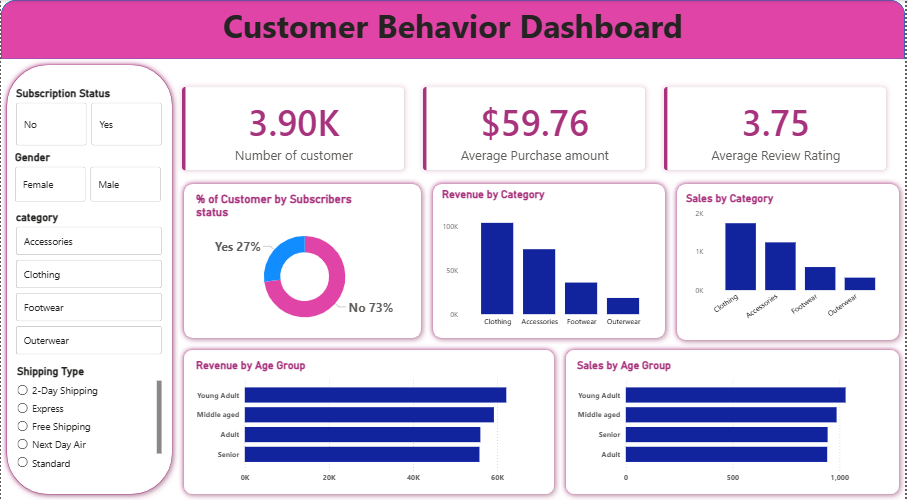

The page's visual inventory and layout, read from the dashboard file:
{"tool":"powerbi","page":{"name":"Page 1","canvas":[1500,830],"ordinal":0},"visuals":[{"type":"cardVisual","fields":{"Data":["public customer.Number of customer","public customer.Average Purchase amount","public customer.Average Review Rating"]},"box":[272.2,116.4,1228.4,195.2],"z":0},{"type":"shape","box":[0,0,1500.6,98.4],"z":1000},{"type":"textbox","box":[0,0,1500.6,100],"z":2000},{"type":"shape","box":[293.6,295.2,413.3,275.5],"z":3000},{"type":"donutChart","title":"% of Customer by Subscribers status","fields":{"Category":["public customer.subscription_status"],"Y":["CountNonNull(public customer.customer_id)"]},"box":[318.2,318.2,370.6,232.9],"z":4000},{"type":"shape","box":[706.8,295.2,405.1,275.5],"z":5000},{"type":"shape","box":[1111.9,295.2,388.7,278.8],"z":6000},{"type":"clusteredColumnChart","title":"Revenue by Category","fields":{"Y":["Sum(public customer.purchase_amount)"],"Category":["public customer.category"]},"box":[726.5,311.6,367.4,239.4],"z":7000},{"type":"clusteredColumnChart","title":"Sales by Category","fields":{"Y":["CountNonNull(public customer.customer_id)"],"Category":["public customer.category"]},"box":[1131.6,318.2,352.6,232.9],"z":8000},{"type":"shape","box":[0,97.9,293.8,732.1],"z":9000},{"type":"advancedSlicerVisual","title":"Subscription Status","fields":{"Values":["public customer.subscription_status"]},"box":[19.9,144.4,252.3,102.9],"z":10000},{"type":"advancedSlicerVisual","title":"Gender","fields":{"Values":["public customer.gender"]},"box":[18.3,250.7,254,89.6],"z":11000},{"type":"advancedSlicerVisual","fields":{"Values":["public customer.category"]},"box":[19.9,350.3,252.3,245.7],"z":12000},{"type":"listSlicer","fields":{"Values":["public customer.shipping_type"]},"box":[21.6,605.9,250.7,179.3],"z":13000},{"type":"shape","box":[293.8,571,634.1,259],"z":14000},{"type":"clusteredBarChart","title":"Revenue by Age Group","fields":{"Y":["Sum(public customer.purchase_amount)"],"Category":["public customer.age_group"]},"box":[318.7,595.9,591,214.1],"z":15000},{"type":"shape","box":[927.9,571,572.7,259],"z":16000},{"type":"clusteredBarChart","title":"Sales by Age Group","fields":{"Y":["CountNonNull(public customer.customer_id)"],"Category":["public customer.age_group"]},"box":[951.2,595.9,532.9,214.1],"z":17000}]}

Visuals, with their boxes in screenshot pixels (x1, y1, x2, y2), scaled from the page's 1500x830 canvas onto the 908x500 screenshot:
cardVisual - public customer.Number of customer x public customer.Average Purchase amount: region(165, 70, 907, 188)
shape: region(0, 0, 907, 59)
textbox: region(0, 0, 907, 60)
shape: region(178, 178, 428, 344)
"% of Customer by Subscribers status" donutChart: region(193, 192, 417, 332)
shape: region(428, 178, 673, 344)
shape: region(673, 178, 907, 346)
"Revenue by Category" clusteredColumnChart: region(440, 188, 662, 332)
"Sales by Category" clusteredColumnChart: region(685, 192, 898, 332)
shape: region(0, 59, 178, 499)
"Subscription Status" advancedSlicerVisual: region(12, 87, 165, 149)
"Gender" advancedSlicerVisual: region(11, 151, 165, 205)
advancedSlicerVisual - public customer.category: region(12, 211, 165, 359)
listSlicer - public customer.shipping_type: region(13, 365, 165, 473)
shape: region(178, 344, 562, 499)
"Revenue by Age Group" clusteredBarChart: region(193, 359, 551, 488)
shape: region(562, 344, 907, 499)
"Sales by Age Group" clusteredBarChart: region(576, 359, 898, 488)
